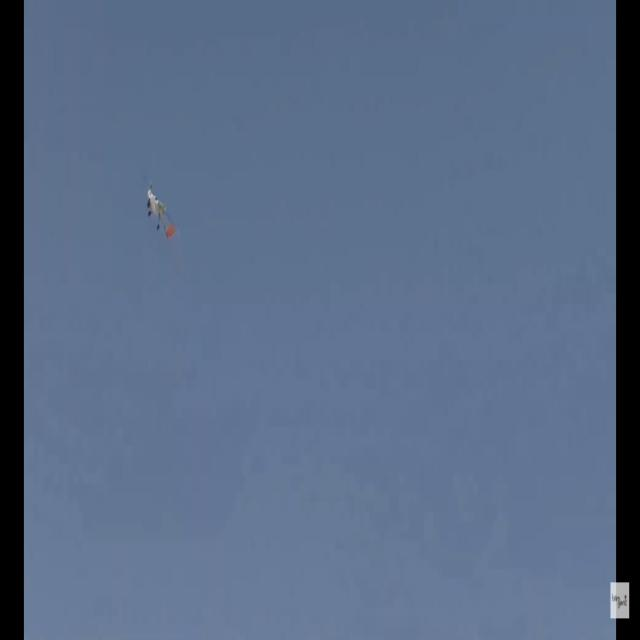iha: (147, 179, 179, 240)
